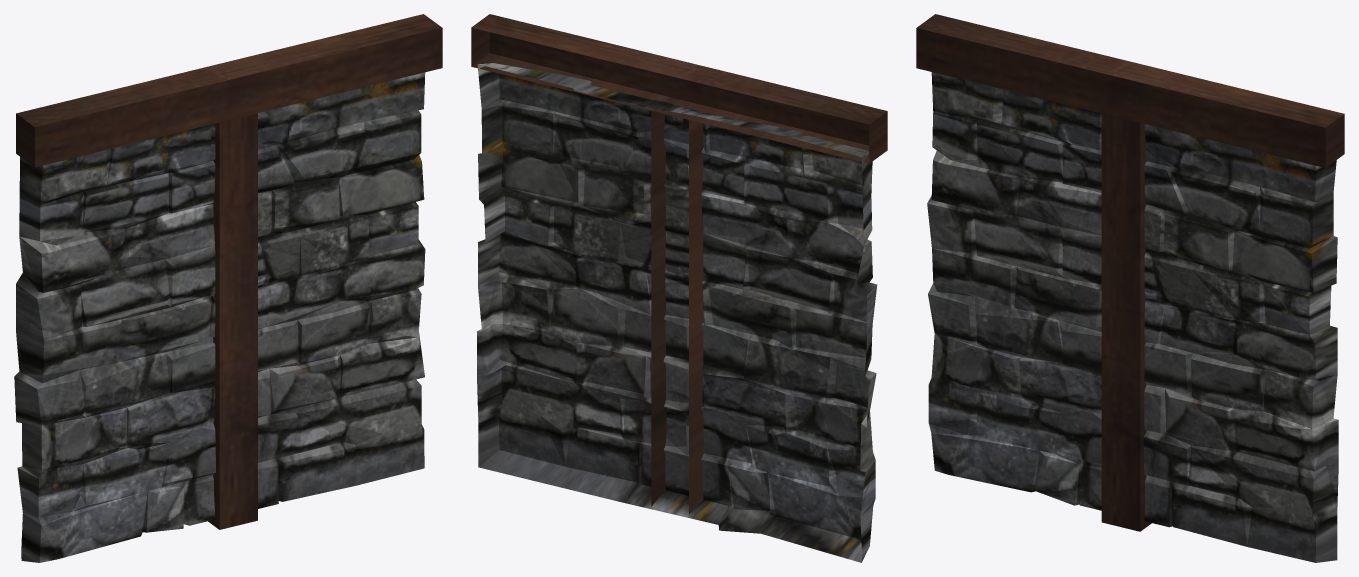
The model's file is Wall 2.fbx.
The picture shows the model from 3 angles, left to right: view 1: azimuth 30°, elevation 25°; view 2: azimuth 150°, elevation 25°; view 3: azimuth 330°, elevation 25°; orthographic projection. The views are drawn at different scales.
Parts seen in each view (by area): view 1: Wall 2; view 2: Wall 2; view 3: Wall 2.
Boxes of the visible parts, x1,y1,x2,y2 form: Wall 2: (14, 14, 442, 562); Wall 2: (471, 14, 887, 562); Wall 2: (916, 14, 1344, 562).
Bounding box in the file's own units: 1034 × 1092 × 96.13.
